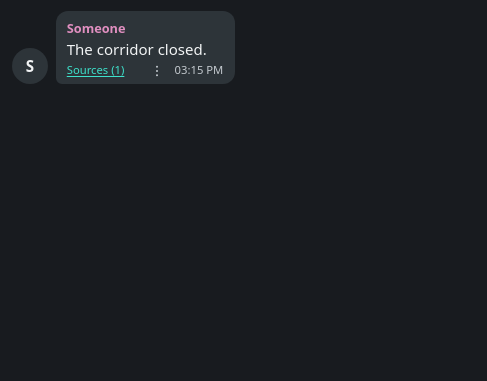
the small button in the foot opens the message menu, also with the sources open
The width and height of the screenshot is (487, 381).
Expected: the button with class "sources-toggle" is shown, [67,60,124,81]
Click the button with class "more": click(157, 71) [147,60,167,81]
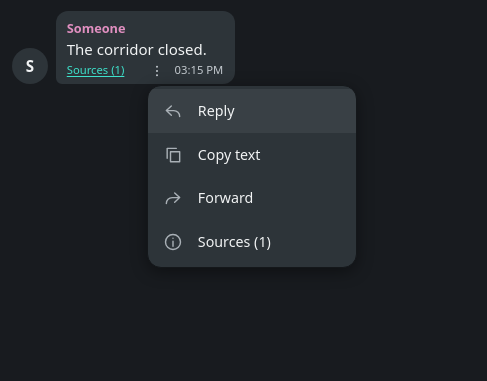
Expected: the menu item "Copy text" is shown, [148,133,356,176]
Press Escape
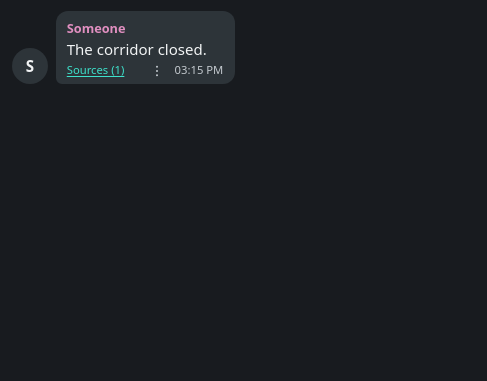
Expected: the menu is gone
Click the button with class "sources-toggle": click(96, 71) [67,60,124,81]
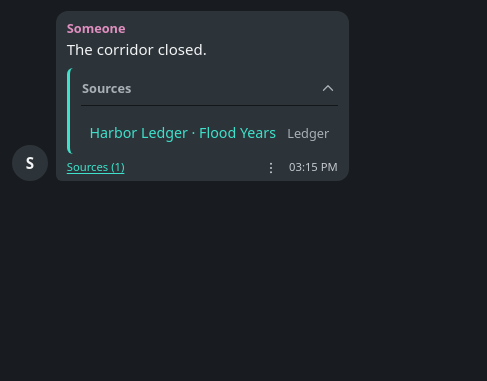
Expected: the element with class "sources-panel" is shown, [67,68,338,154]
Click the button with class "more": click(271, 168) [261,157,282,178]
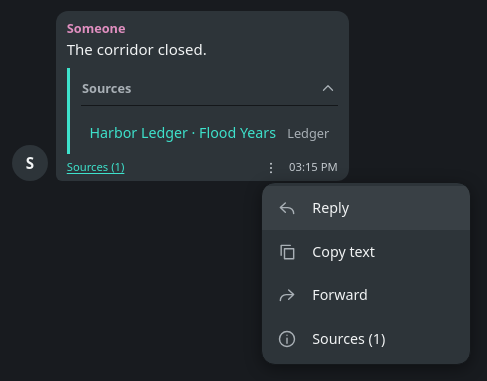
Expected: the menu item "Copy text" is shown, [262,230,470,273]
